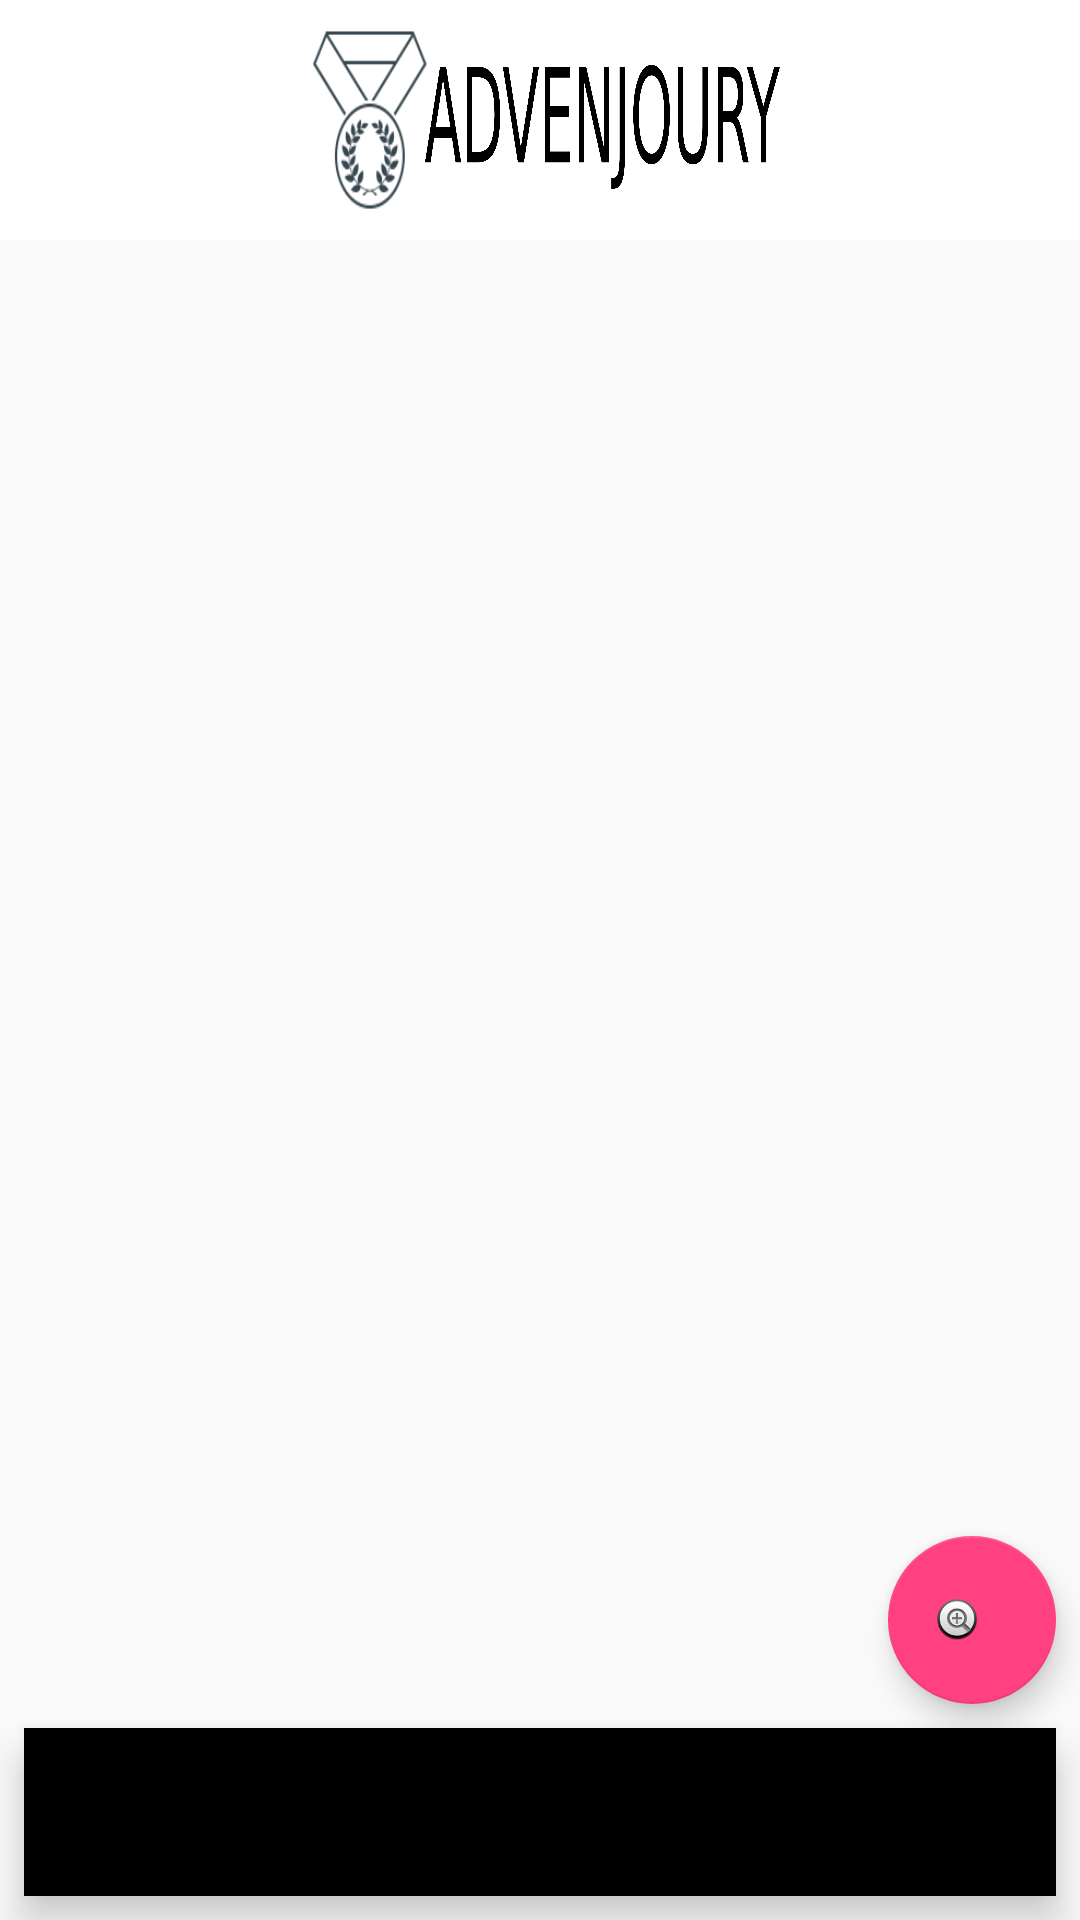

Named icons in this screenshot (1080 x 1920) and their bounding boxes, (x1,y1,x2,y2):
plus: (888,1536,1056,1704)
